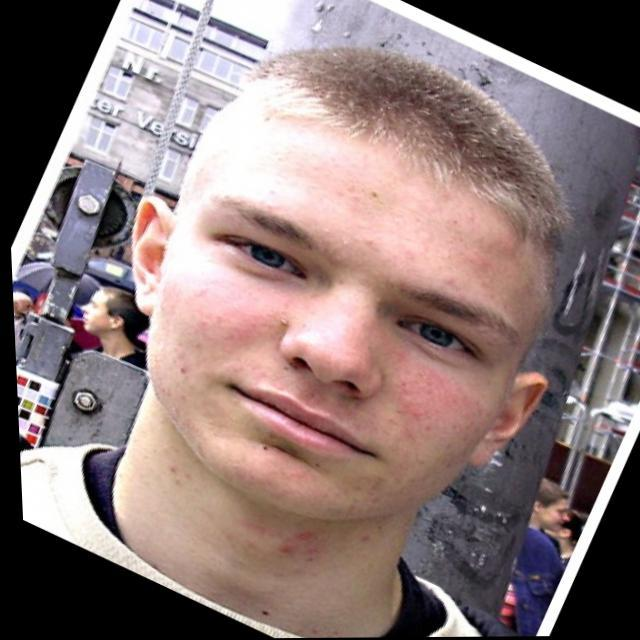Nonhelmet: (126, 44, 570, 526)
